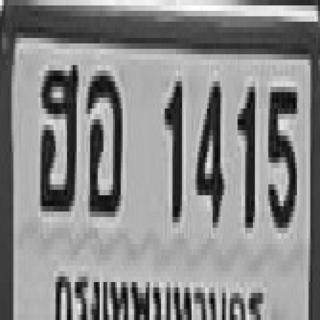A43: (84, 70, 121, 212)
A44: (38, 60, 77, 206)
N01: (163, 76, 180, 217), (236, 81, 253, 222)
N04: (194, 76, 222, 222)
N05: (266, 81, 295, 222)
